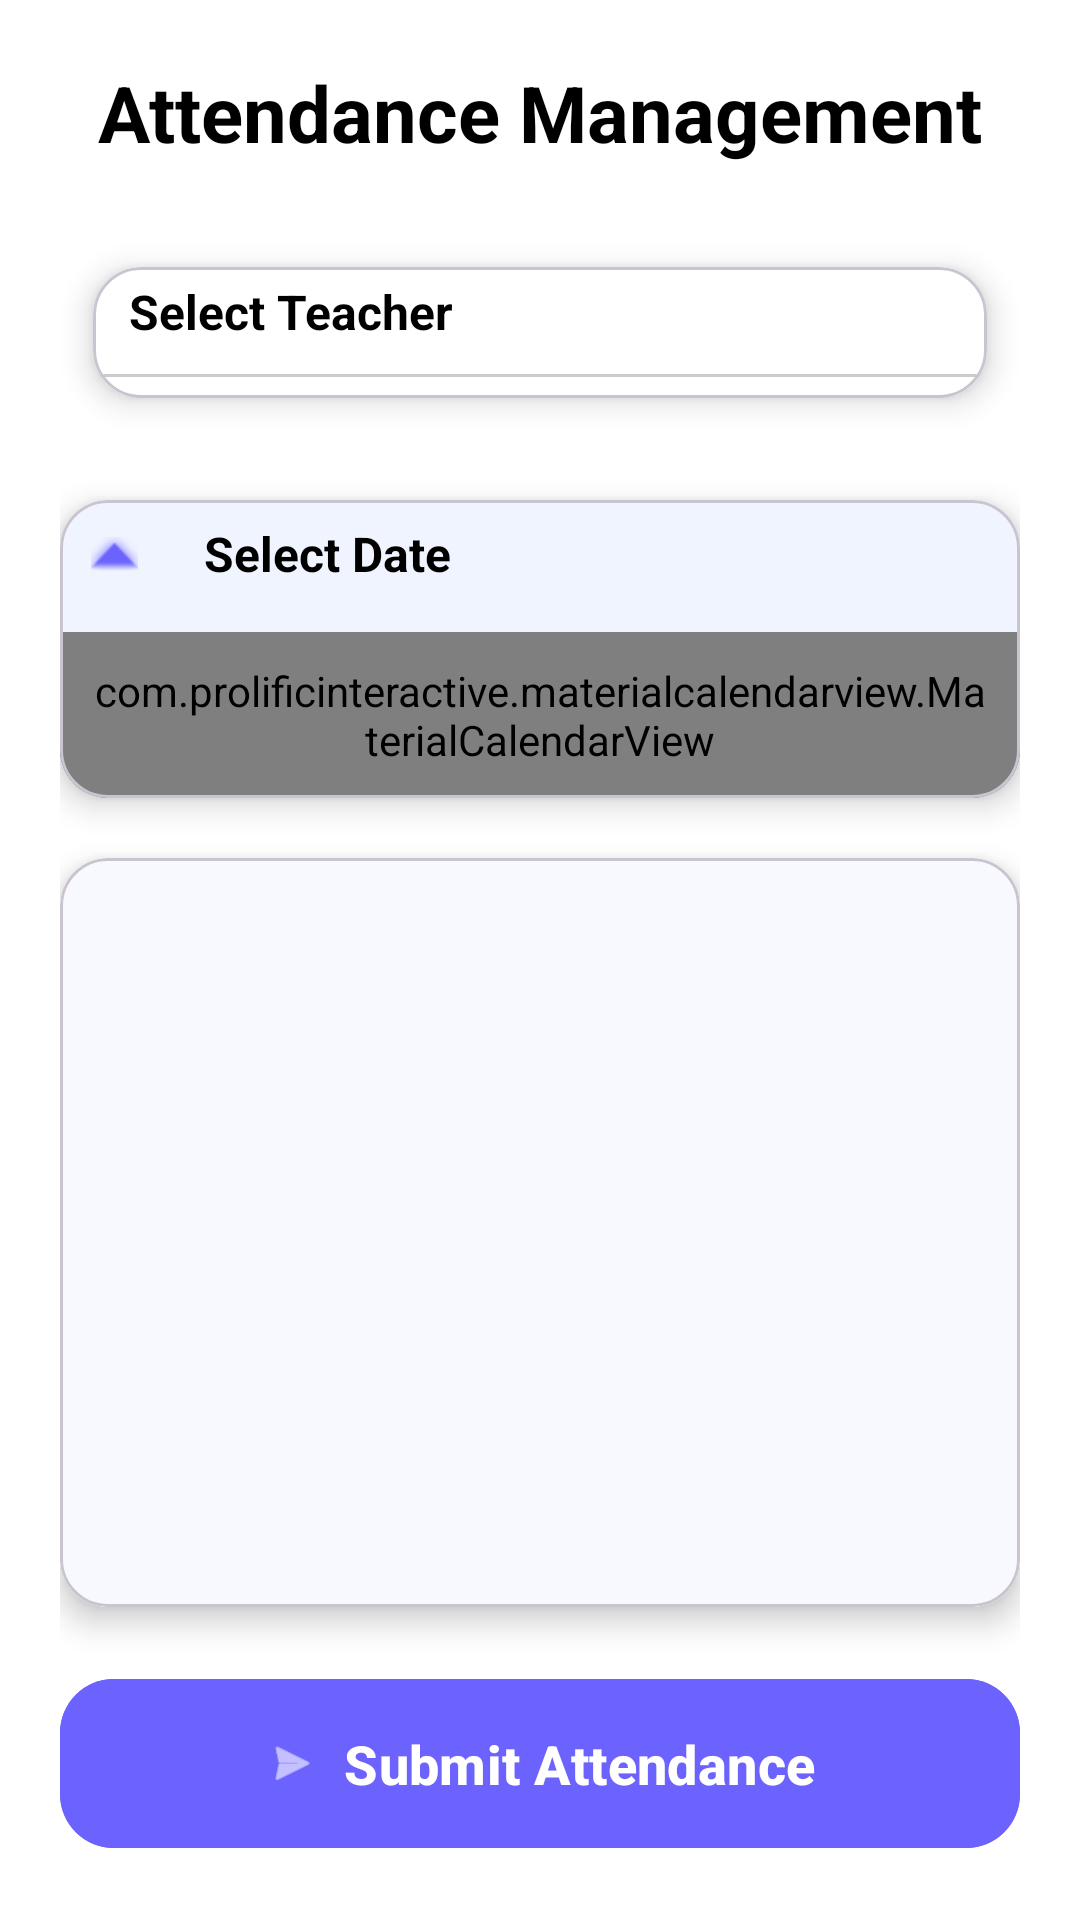

Locate icon controls on the screen. Image size 1080*1920, boxes as [x1=x1, y1=y1, x2=x2, y2=y2].
Toggle Calendar: [x1=91, y1=541, x2=138, y2=569]
